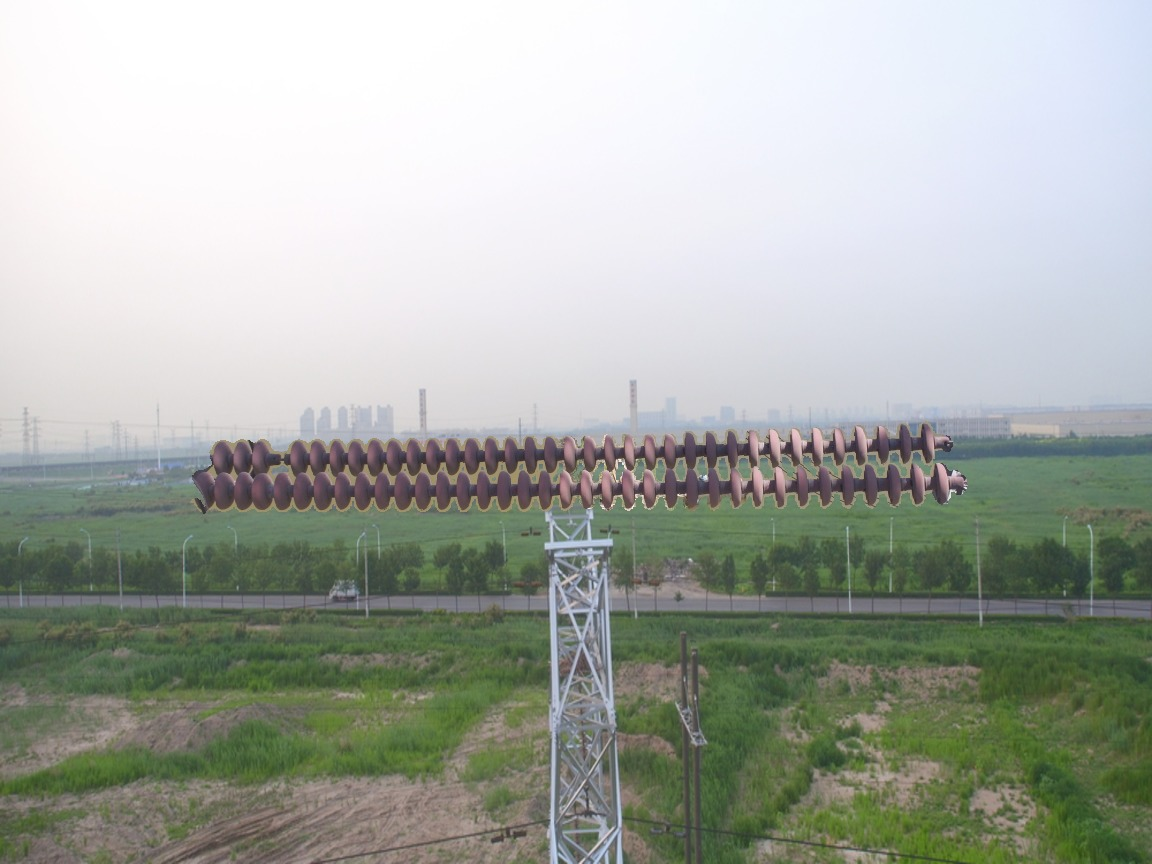defect: (249, 435, 309, 471)
